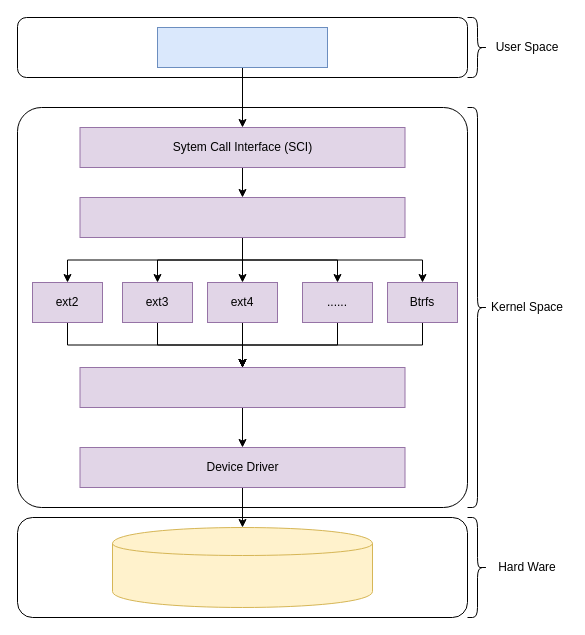
The diagram is 585 pixels wide and 635 high, and some of its shapes have lost their labels. Here are the shapes that lost their labels. From the top down, the centre of each, then its label:
At point 242,47: "Application".
At point 242,217: "Virtual File System (VFS)".
At point 242,387: "Gengeral Block Device Layer".
At point 242,567: "Physical Disk".
